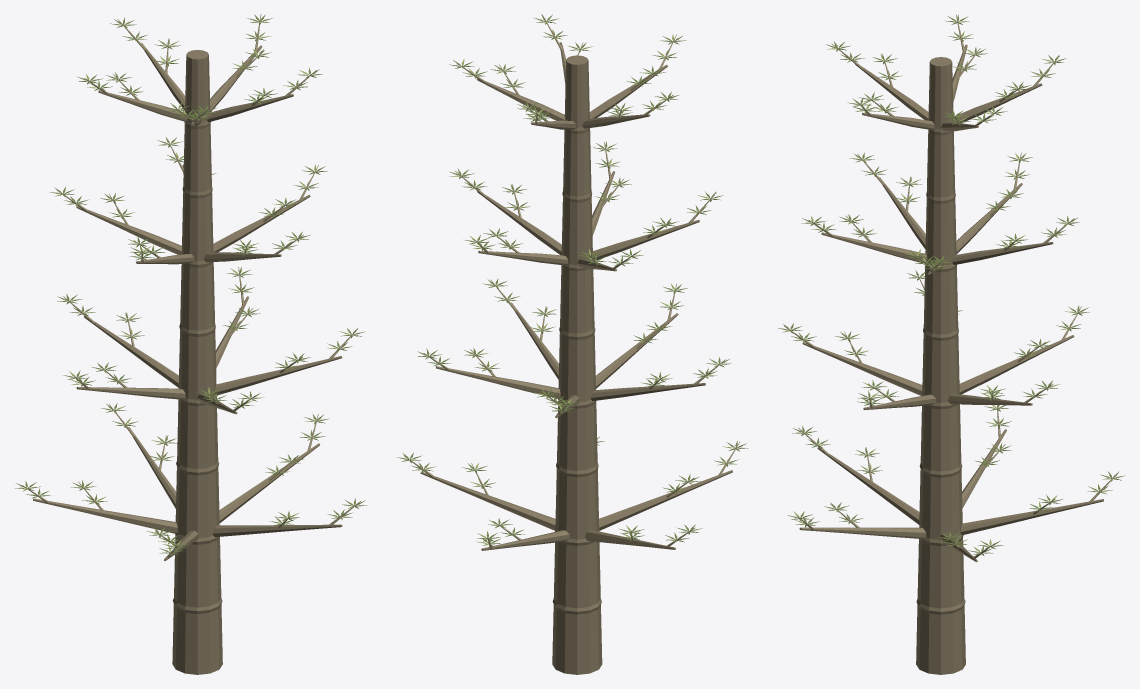
The picture shows the model from 3 angles, left to right: view 1: azimuth 30°, elevation 25°; view 2: azimuth 150°, elevation 25°; view 3: azimuth 270°, elevation 25°; orthographic projection.
Visible parts, largest first — view 1: quiet-barked-eight-node-woody-sphenopsid, five-hundred-sixty-small-lanceolate-whorled-leaves; view 2: quiet-barked-eight-node-woody-sphenopsid, five-hundred-sixty-small-lanceolate-whorled-leaves; view 3: quiet-barked-eight-node-woody-sphenopsid, five-hundred-sixty-small-lanceolate-whorled-leaves.
Boxes of the visible parts, x1,y1,x2,y2 form: quiet-barked-eight-node-woody-sphenopsid: [22, 14, 360, 674]; five-hundred-sixty-small-lanceolate-whorled-leaves: [15, 14, 366, 555]; quiet-barked-eight-node-woody-sphenopsid: [403, 14, 740, 674]; five-hundred-sixty-small-lanceolate-whorled-leaves: [396, 14, 748, 546]; quiet-barked-eight-node-woody-sphenopsid: [784, 14, 1117, 674]; five-hundred-sixty-small-lanceolate-whorled-leaves: [778, 14, 1124, 555].
Bounding box in the file's own units: 2.54 × 4.8 × 2.52.
